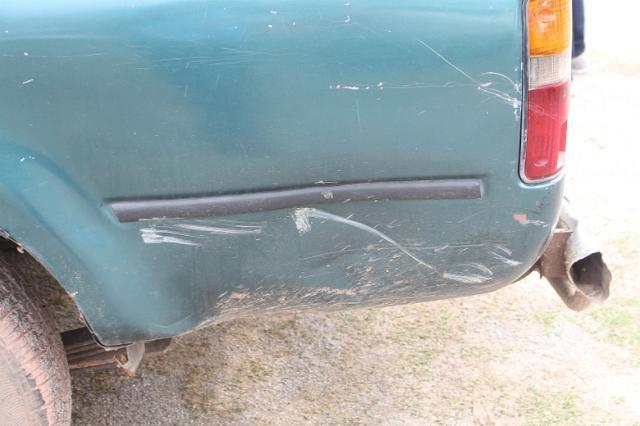Fender: (118, 203, 540, 320)
